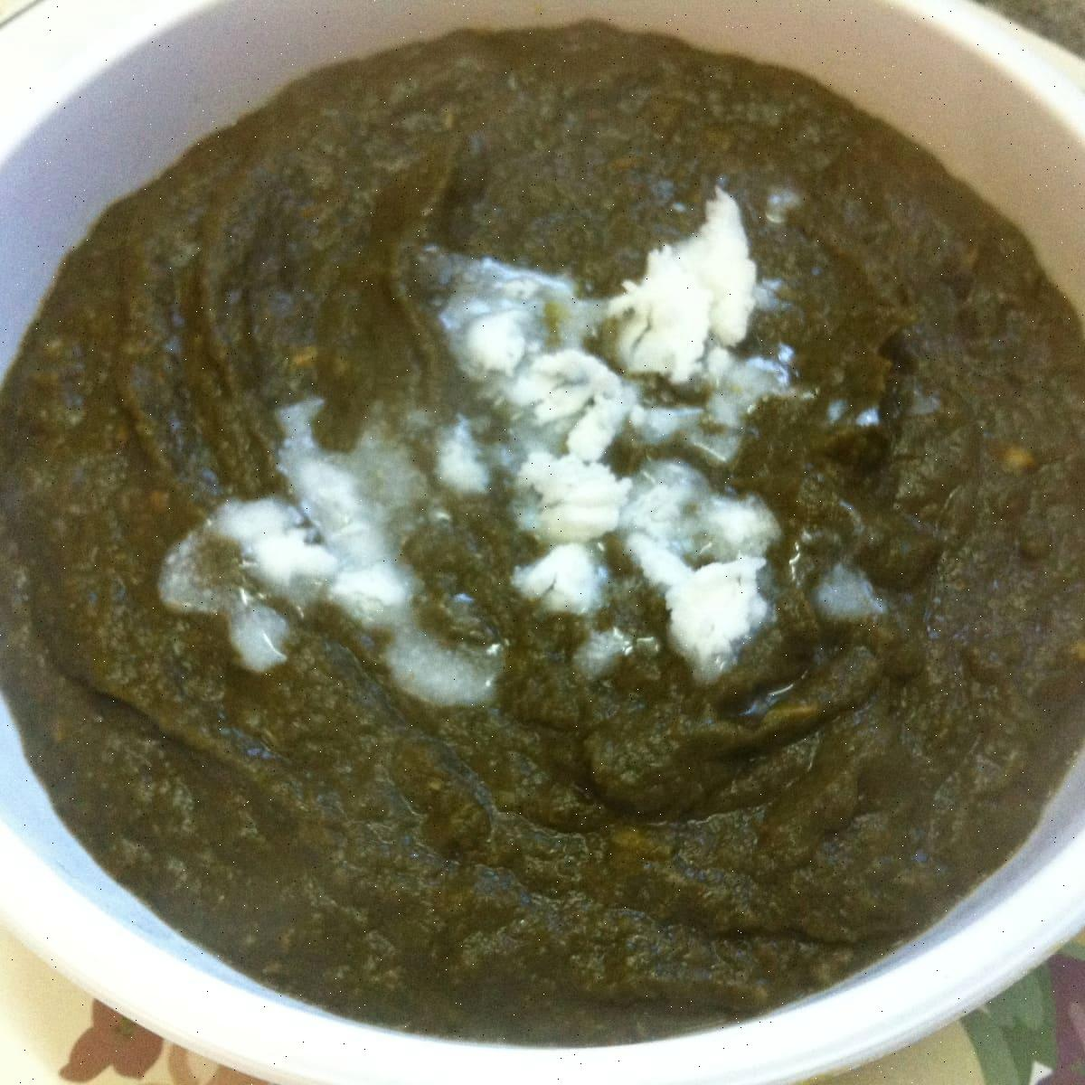saag: (7, 23, 1085, 1043)
